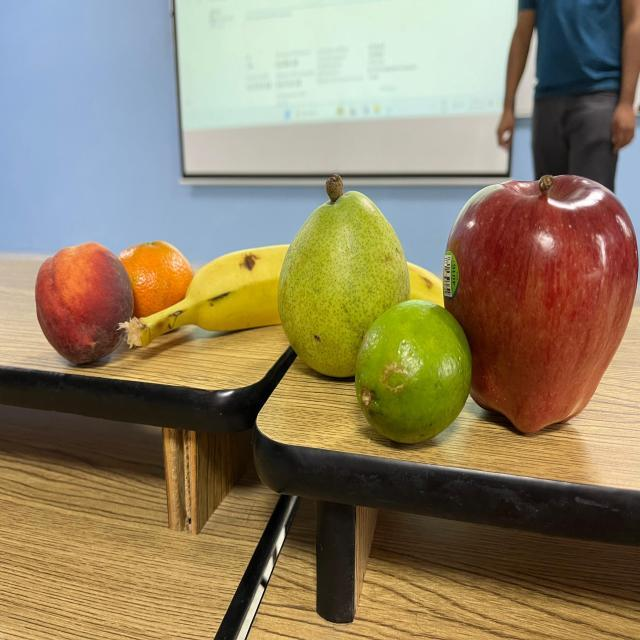Apel Merah: (441, 172, 640, 436)
Jeruk Mandarin: (118, 238, 201, 338)
Lemon: (352, 294, 476, 449)
Persik: (34, 238, 136, 367)
Pir: (274, 170, 412, 383)
Pisang: (127, 241, 458, 361)
